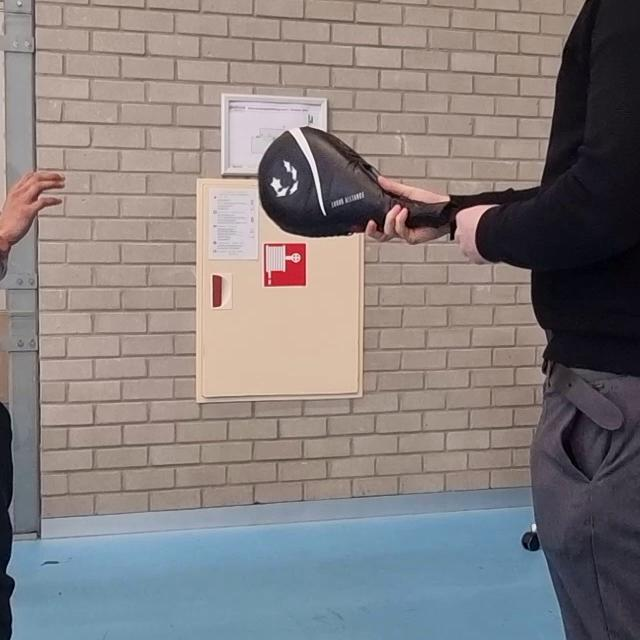paddle: (259, 129, 453, 240)
